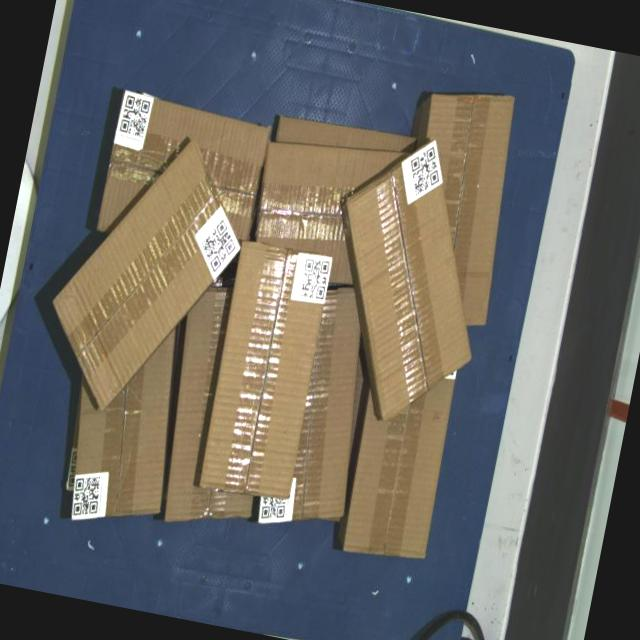box: (34, 118, 260, 432), (306, 124, 512, 436), (194, 240, 336, 504)
